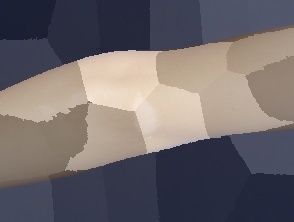vitiligo: (44, 62, 181, 150)
